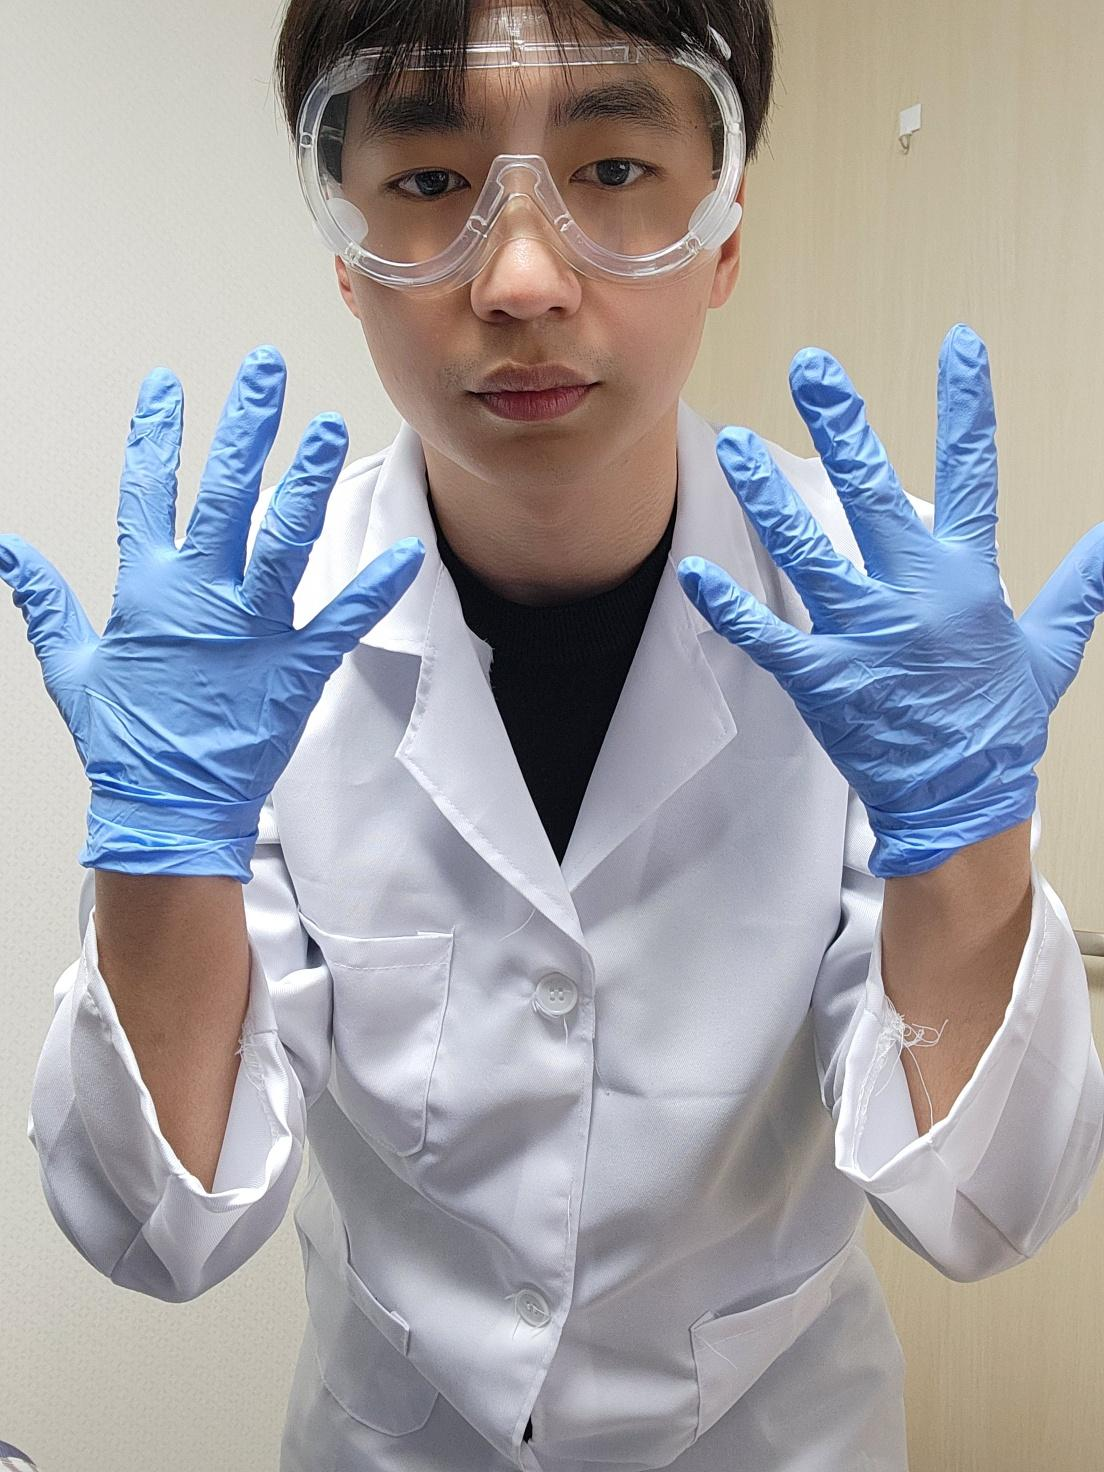lab_coat: (29, 407, 1098, 1470)
